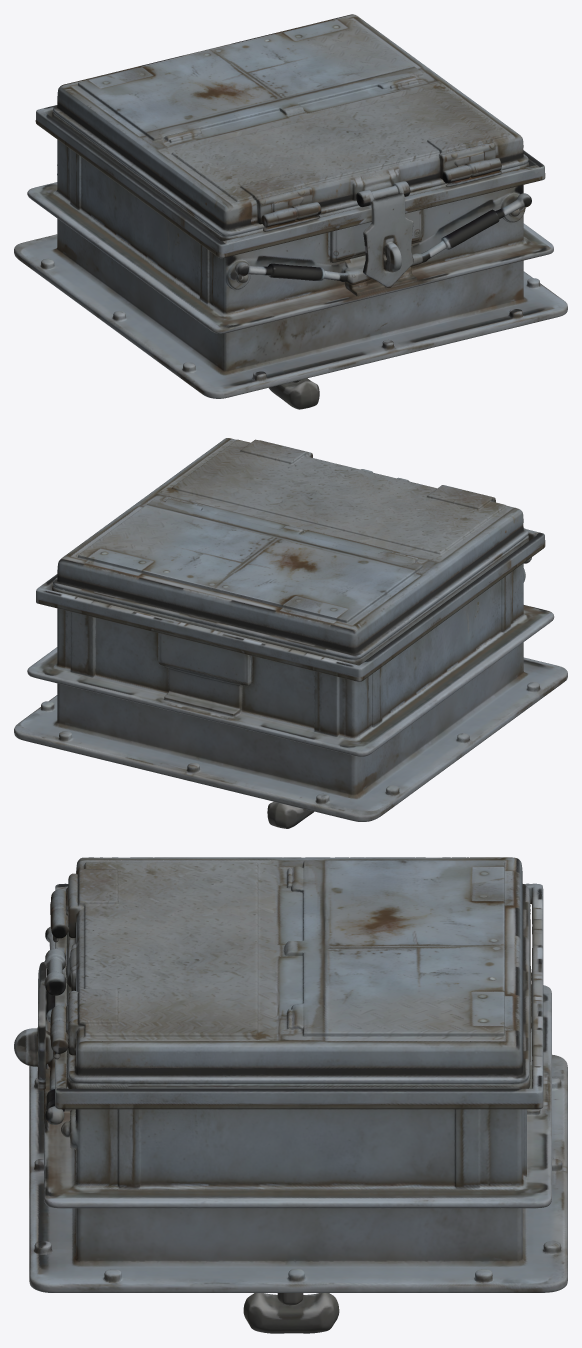
File: steel storage box 3d model.glb
The picture shows the model from 3 angles, top to bottom: view 1: azimuth 30°, elevation 25°; view 2: azimuth 150°, elevation 25°; view 3: azimuth 270°, elevation 25°; orthographic projection. The views are drawn at different scales.
Visible parts, largest first — view 1: tripo_node_518c995a-7b82-4df0-80fa-59c57ad7285b; view 2: tripo_node_518c995a-7b82-4df0-80fa-59c57ad7285b; view 3: tripo_node_518c995a-7b82-4df0-80fa-59c57ad7285b.
Boxes of the visible parts, box(x1,y1,x2,y2) form: tripo_node_518c995a-7b82-4df0-80fa-59c57ad7285b: box(14, 14, 567, 409); tripo_node_518c995a-7b82-4df0-80fa-59c57ad7285b: box(14, 438, 567, 828); tripo_node_518c995a-7b82-4df0-80fa-59c57ad7285b: box(14, 857, 567, 1333).
Size of the model in its own units: 0.9934 by 0.7641 by 1.
Materials: 1 (1 with a texture image).
